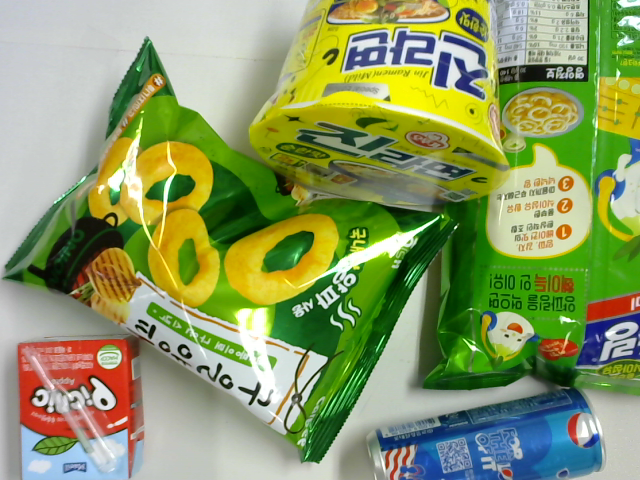Grilled_Onions: (1, 37, 458, 465)
Jinlamyeon_Mild_Taste_Large_Cup: (245, 1, 509, 210)
Oninon_Ring: (418, 1, 640, 394)
Pepsi_Cola_Can_250ml: (364, 386, 604, 480)
Picnic_Apple: (17, 334, 144, 480)
